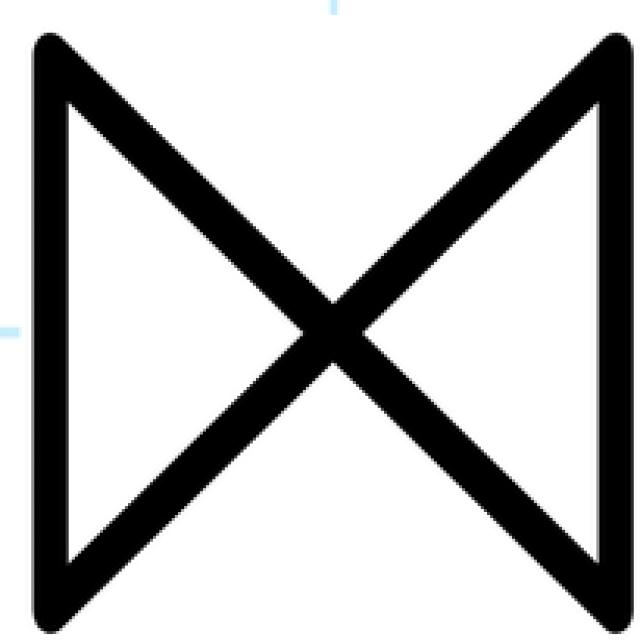Gate valve: (326, 58, 618, 616), (43, 53, 323, 600)
